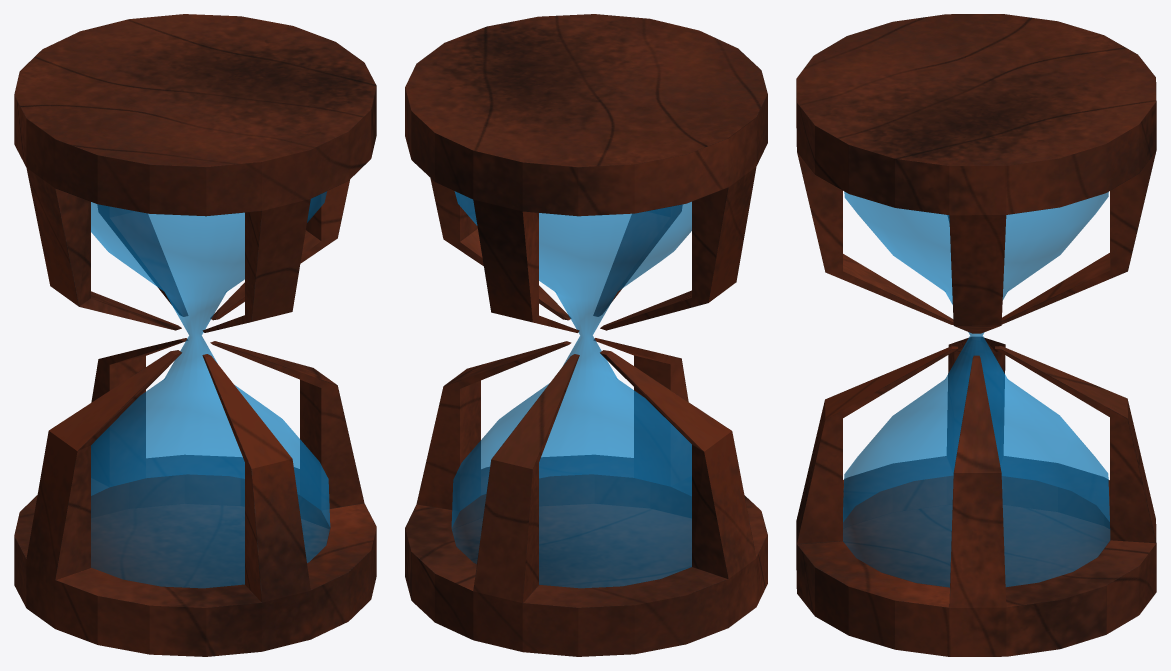
File: Hourglass.fbx
3 views of the same model, side by side, from view 1: azimuth 30°, elevation 25°; view 2: azimuth 150°, elevation 25°; view 3: azimuth 270°, elevation 25° (orthographic).
Visible parts, largest first — view 1: Container, Glass; view 2: Container, Glass; view 3: Container, Glass.
Boxes of the visible parts, <box> form: Container: <box>14,14,376,656</box>; Glass: <box>91,191,330,587</box>; Container: <box>405,14,767,656</box>; Glass: <box>451,191,691,587</box>; Container: <box>796,14,1156,656</box>; Glass: <box>843,191,1109,587</box>.
Bounding box in the file's own units: 2.66 × 4 × 2.66.
2 materials, 1 textured.
